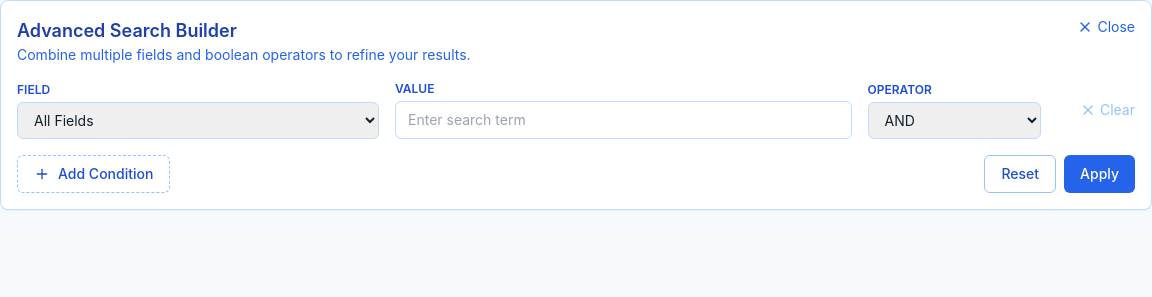
Test: AdvancedSearchBuilder › adds a new condition row
Click the button "Add Condition" at (94, 174), box x1=17 y1=155 x2=170 y2=193
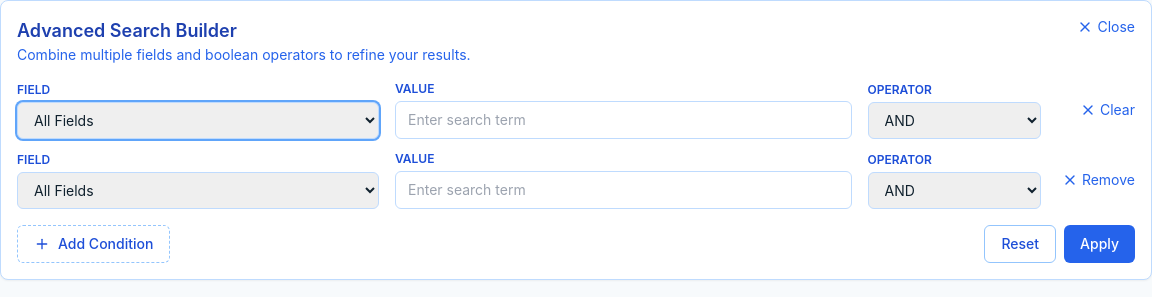
Now the number of dropdowns labelled "Operator" is 2, box x1=868 y1=102 x2=1040 y2=138; x1=868 y1=172 x2=1040 y2=208
